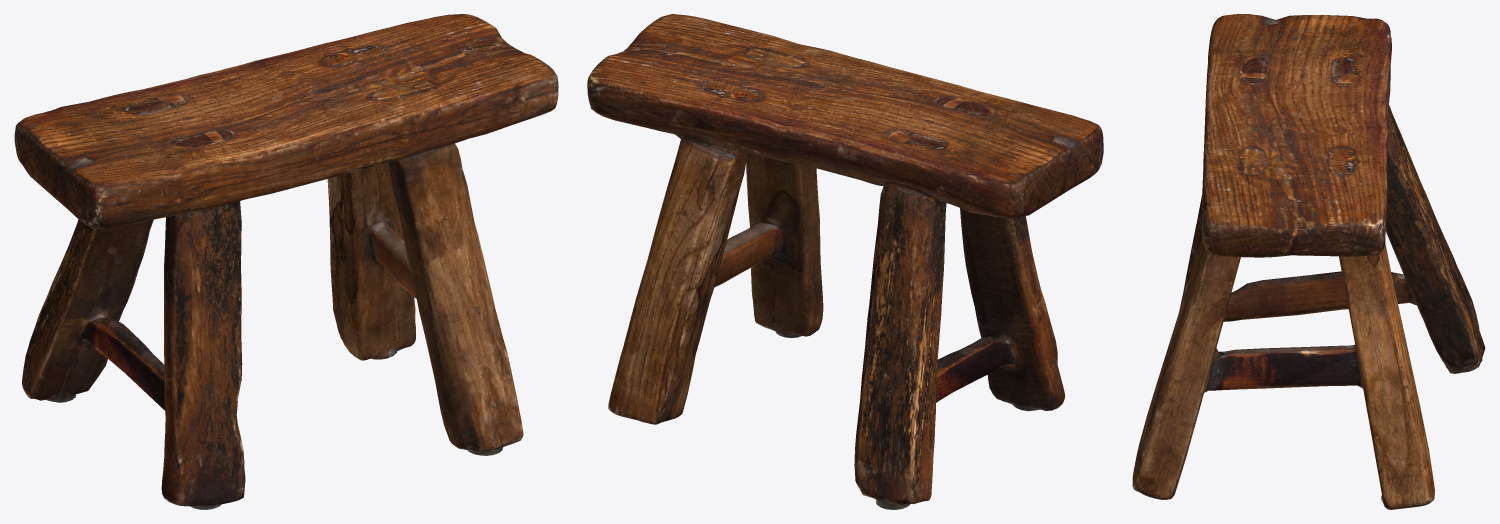
The model's file is wooden_stool_02.glb.
3 renders of one model, left to right at view 1: azimuth 30°, elevation 25°; view 2: azimuth 150°, elevation 25°; view 3: azimuth 270°, elevation 25°, orthographic. The views are drawn at different scales.
Visible parts, largest first — view 1: wooden_stool_02; view 2: wooden_stool_02; view 3: wooden_stool_02.
Boxes of the visible parts, x1,y1,x2,y2 form: wooden_stool_02: (14, 14, 558, 509); wooden_stool_02: (587, 14, 1103, 509); wooden_stool_02: (1132, 14, 1485, 509).
Bounding box in the file's own units: 0.2652 × 0.1819 × 0.1831.
Materials: 1 (1 with a texture image).
